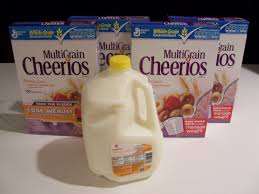milk: (81, 57, 166, 183)
